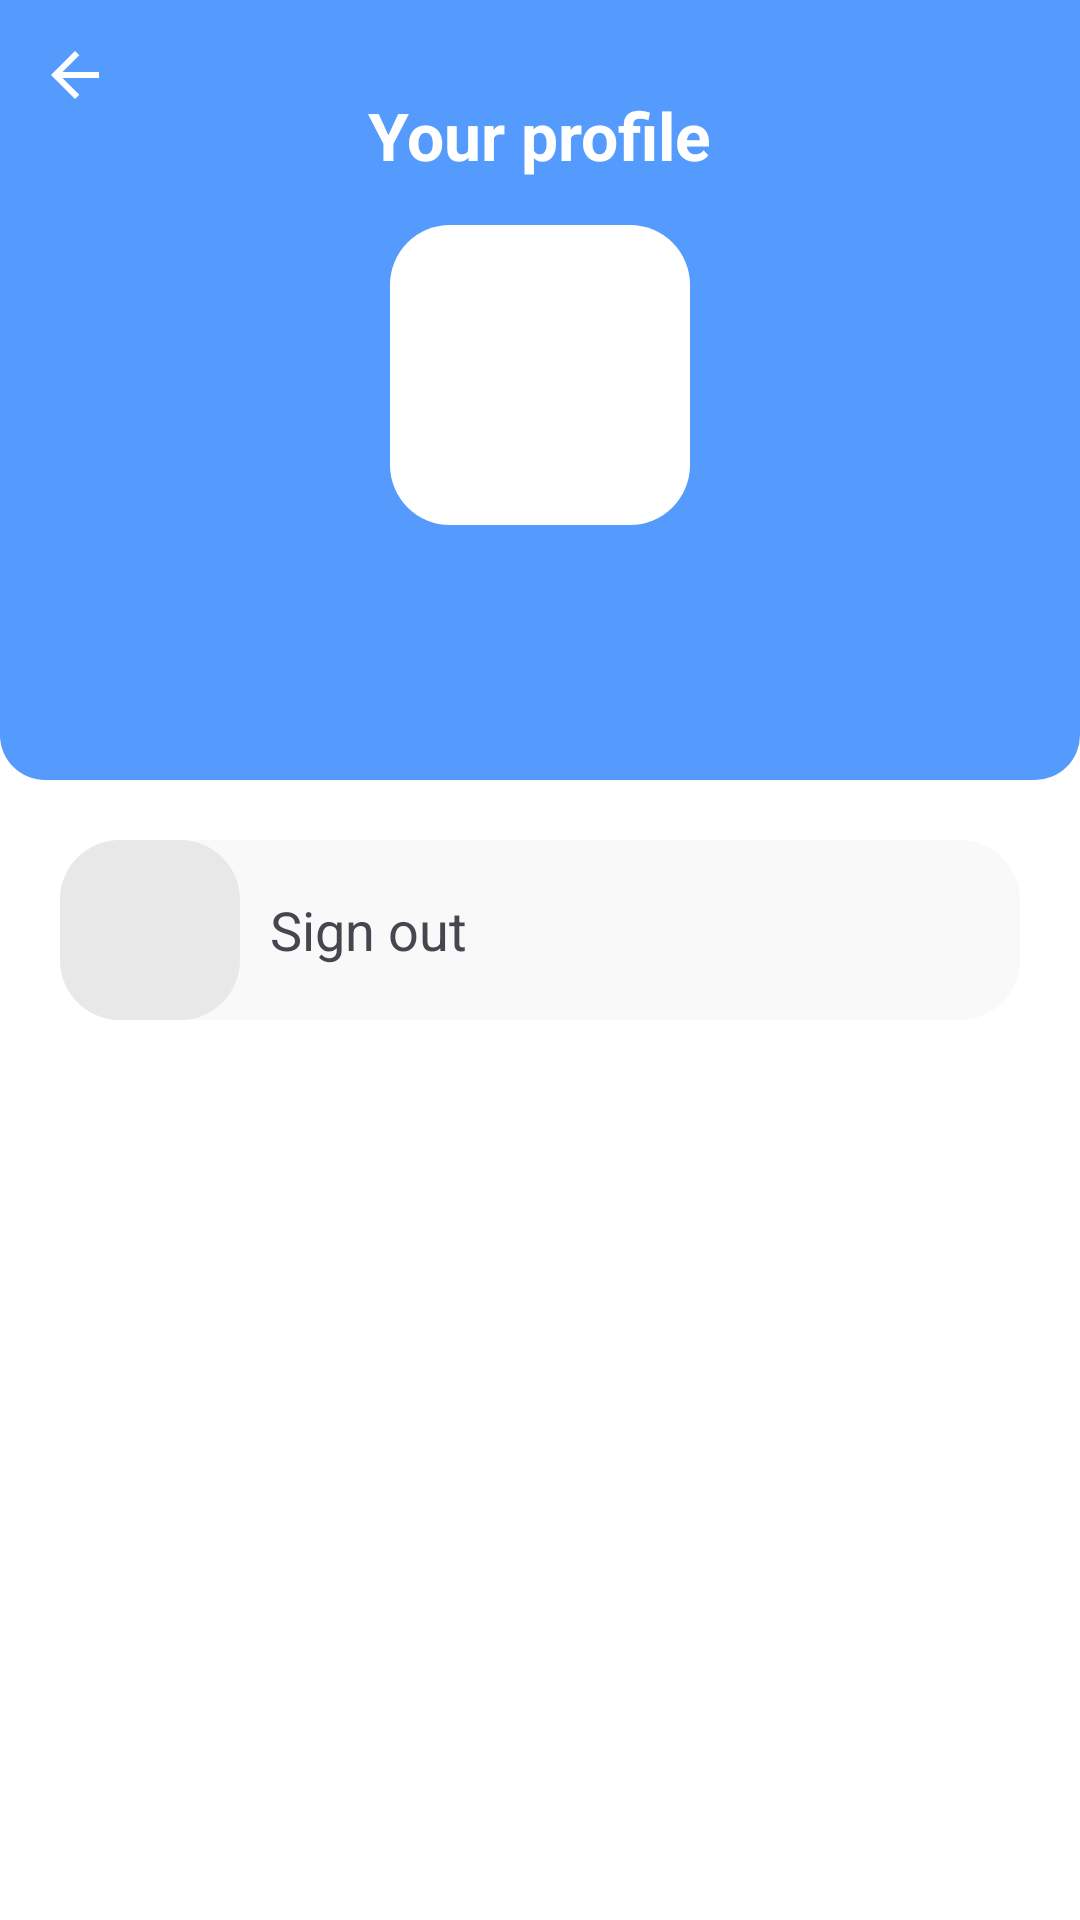

Where icons sit on this 1080px x 1920px app screen, as [left=x1, top=y1, right=x2, bottom=y2]:
back: [left=51, top=51, right=99, bottom=99]
